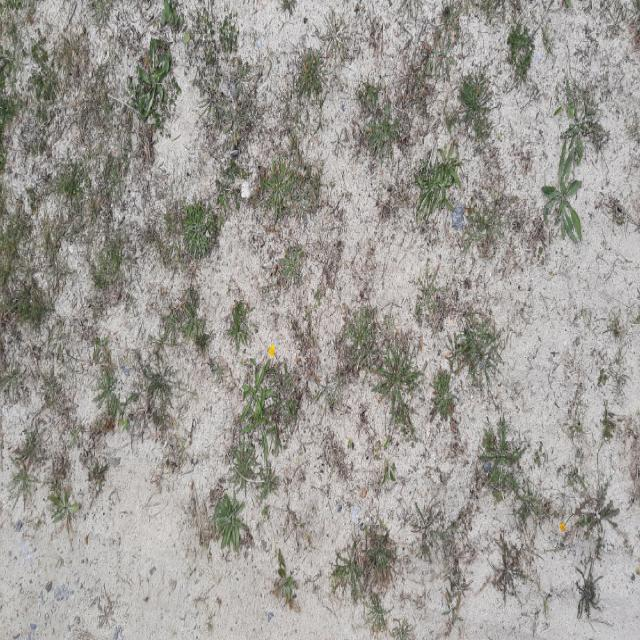white-sand: (0, 0, 639, 637)
